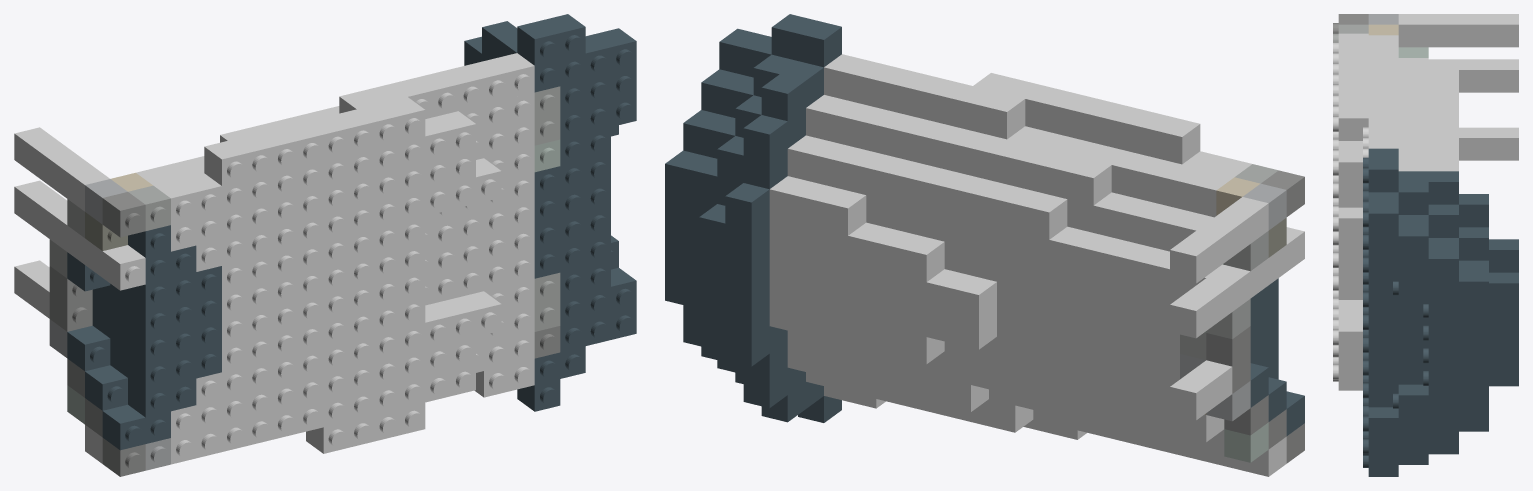
Rendered from full.glb.
3 renders of one model, left to right at view 1: azimuth 30°, elevation 25°; view 2: azimuth 150°, elevation 25°; view 3: azimuth 270°, elevation 25°, orthographic. The views are drawn at different scales.
Visible parts, largest first — view 1: world; view 2: world; view 3: world.
Boxes of the visible parts, x1,y1,x2,y2 form: world: [14, 14, 636, 476]; world: [665, 14, 1304, 476]; world: [1333, 14, 1518, 476].
Bounding box in the file's own units: 168 × 112 × 59.4.
